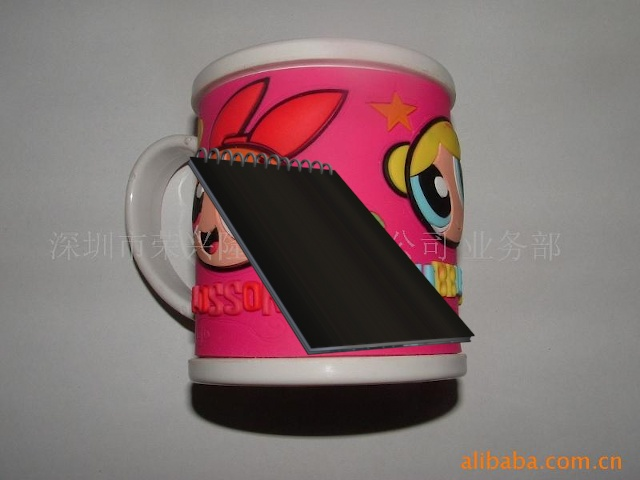paper_notebook: (177, 145, 480, 360)
